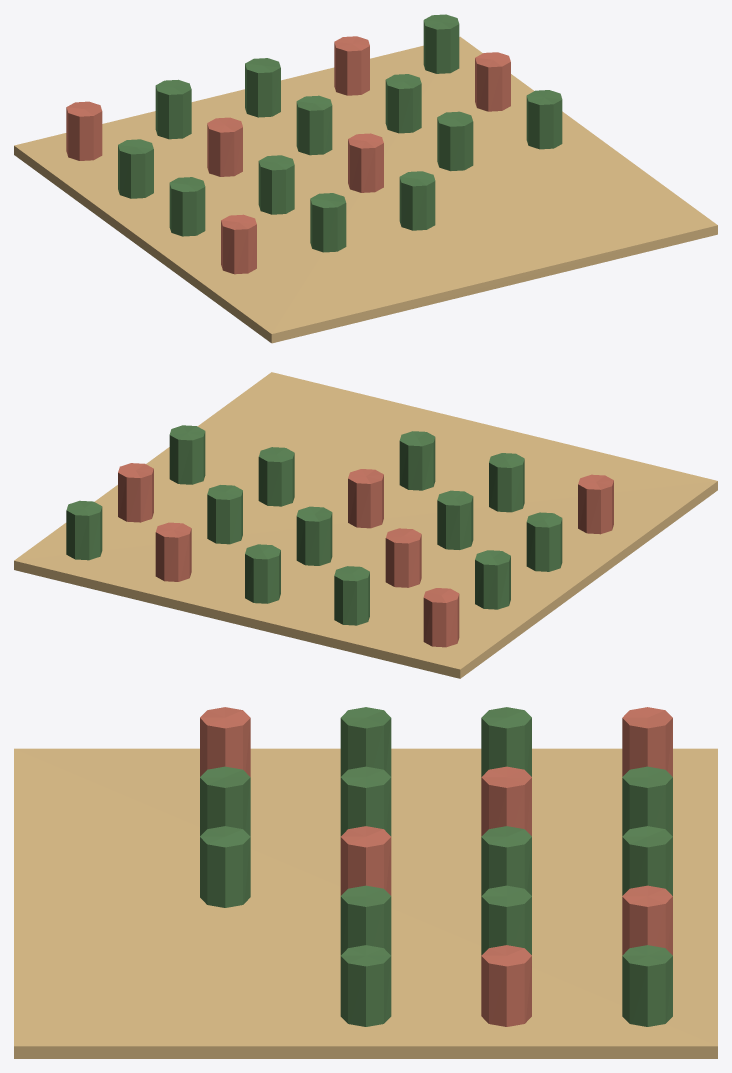
File: Rewilded-field.glb
3 renders of one model, top to bottom at view 1: azimuth 30°, elevation 25°; view 2: azimuth 150°, elevation 25°; view 3: azimuth 270°, elevation 25°, orthographic. The views are drawn at different scales.
Visible parts, largest first — view 1: rewilded-field-static-rewilded-field-earth, rewilded-field-static-rewilded-field-leaf, rewilded-field-static-rewilded-field-flower; view 2: rewilded-field-static-rewilded-field-earth, rewilded-field-static-rewilded-field-leaf, rewilded-field-static-rewilded-field-flower; view 3: rewilded-field-static-rewilded-field-earth, rewilded-field-static-rewilded-field-leaf, rewilded-field-static-rewilded-field-flower.
Part boxes in pixels (x1,y1,x2,y2): rewilded-field-static-rewilded-field-earth: (14,36,717,343); rewilded-field-static-rewilded-field-leaf: (118,14,562,252); rewilded-field-static-rewilded-field-flower: (66,36,510,274); rewilded-field-static-rewilded-field-earth: (14,372,717,678); rewilded-field-static-rewilded-field-leaf: (66,425,562,625); rewilded-field-static-rewilded-field-flower: (118,463,613,647); rewilded-field-static-rewilded-field-earth: (14,748,717,1058); rewilded-field-static-rewilded-field-leaf: (200,707,672,1026); rewilded-field-static-rewilded-field-flower: (200,707,672,1026).
Size of the model in its own units: 5 by 0.575 by 5.
